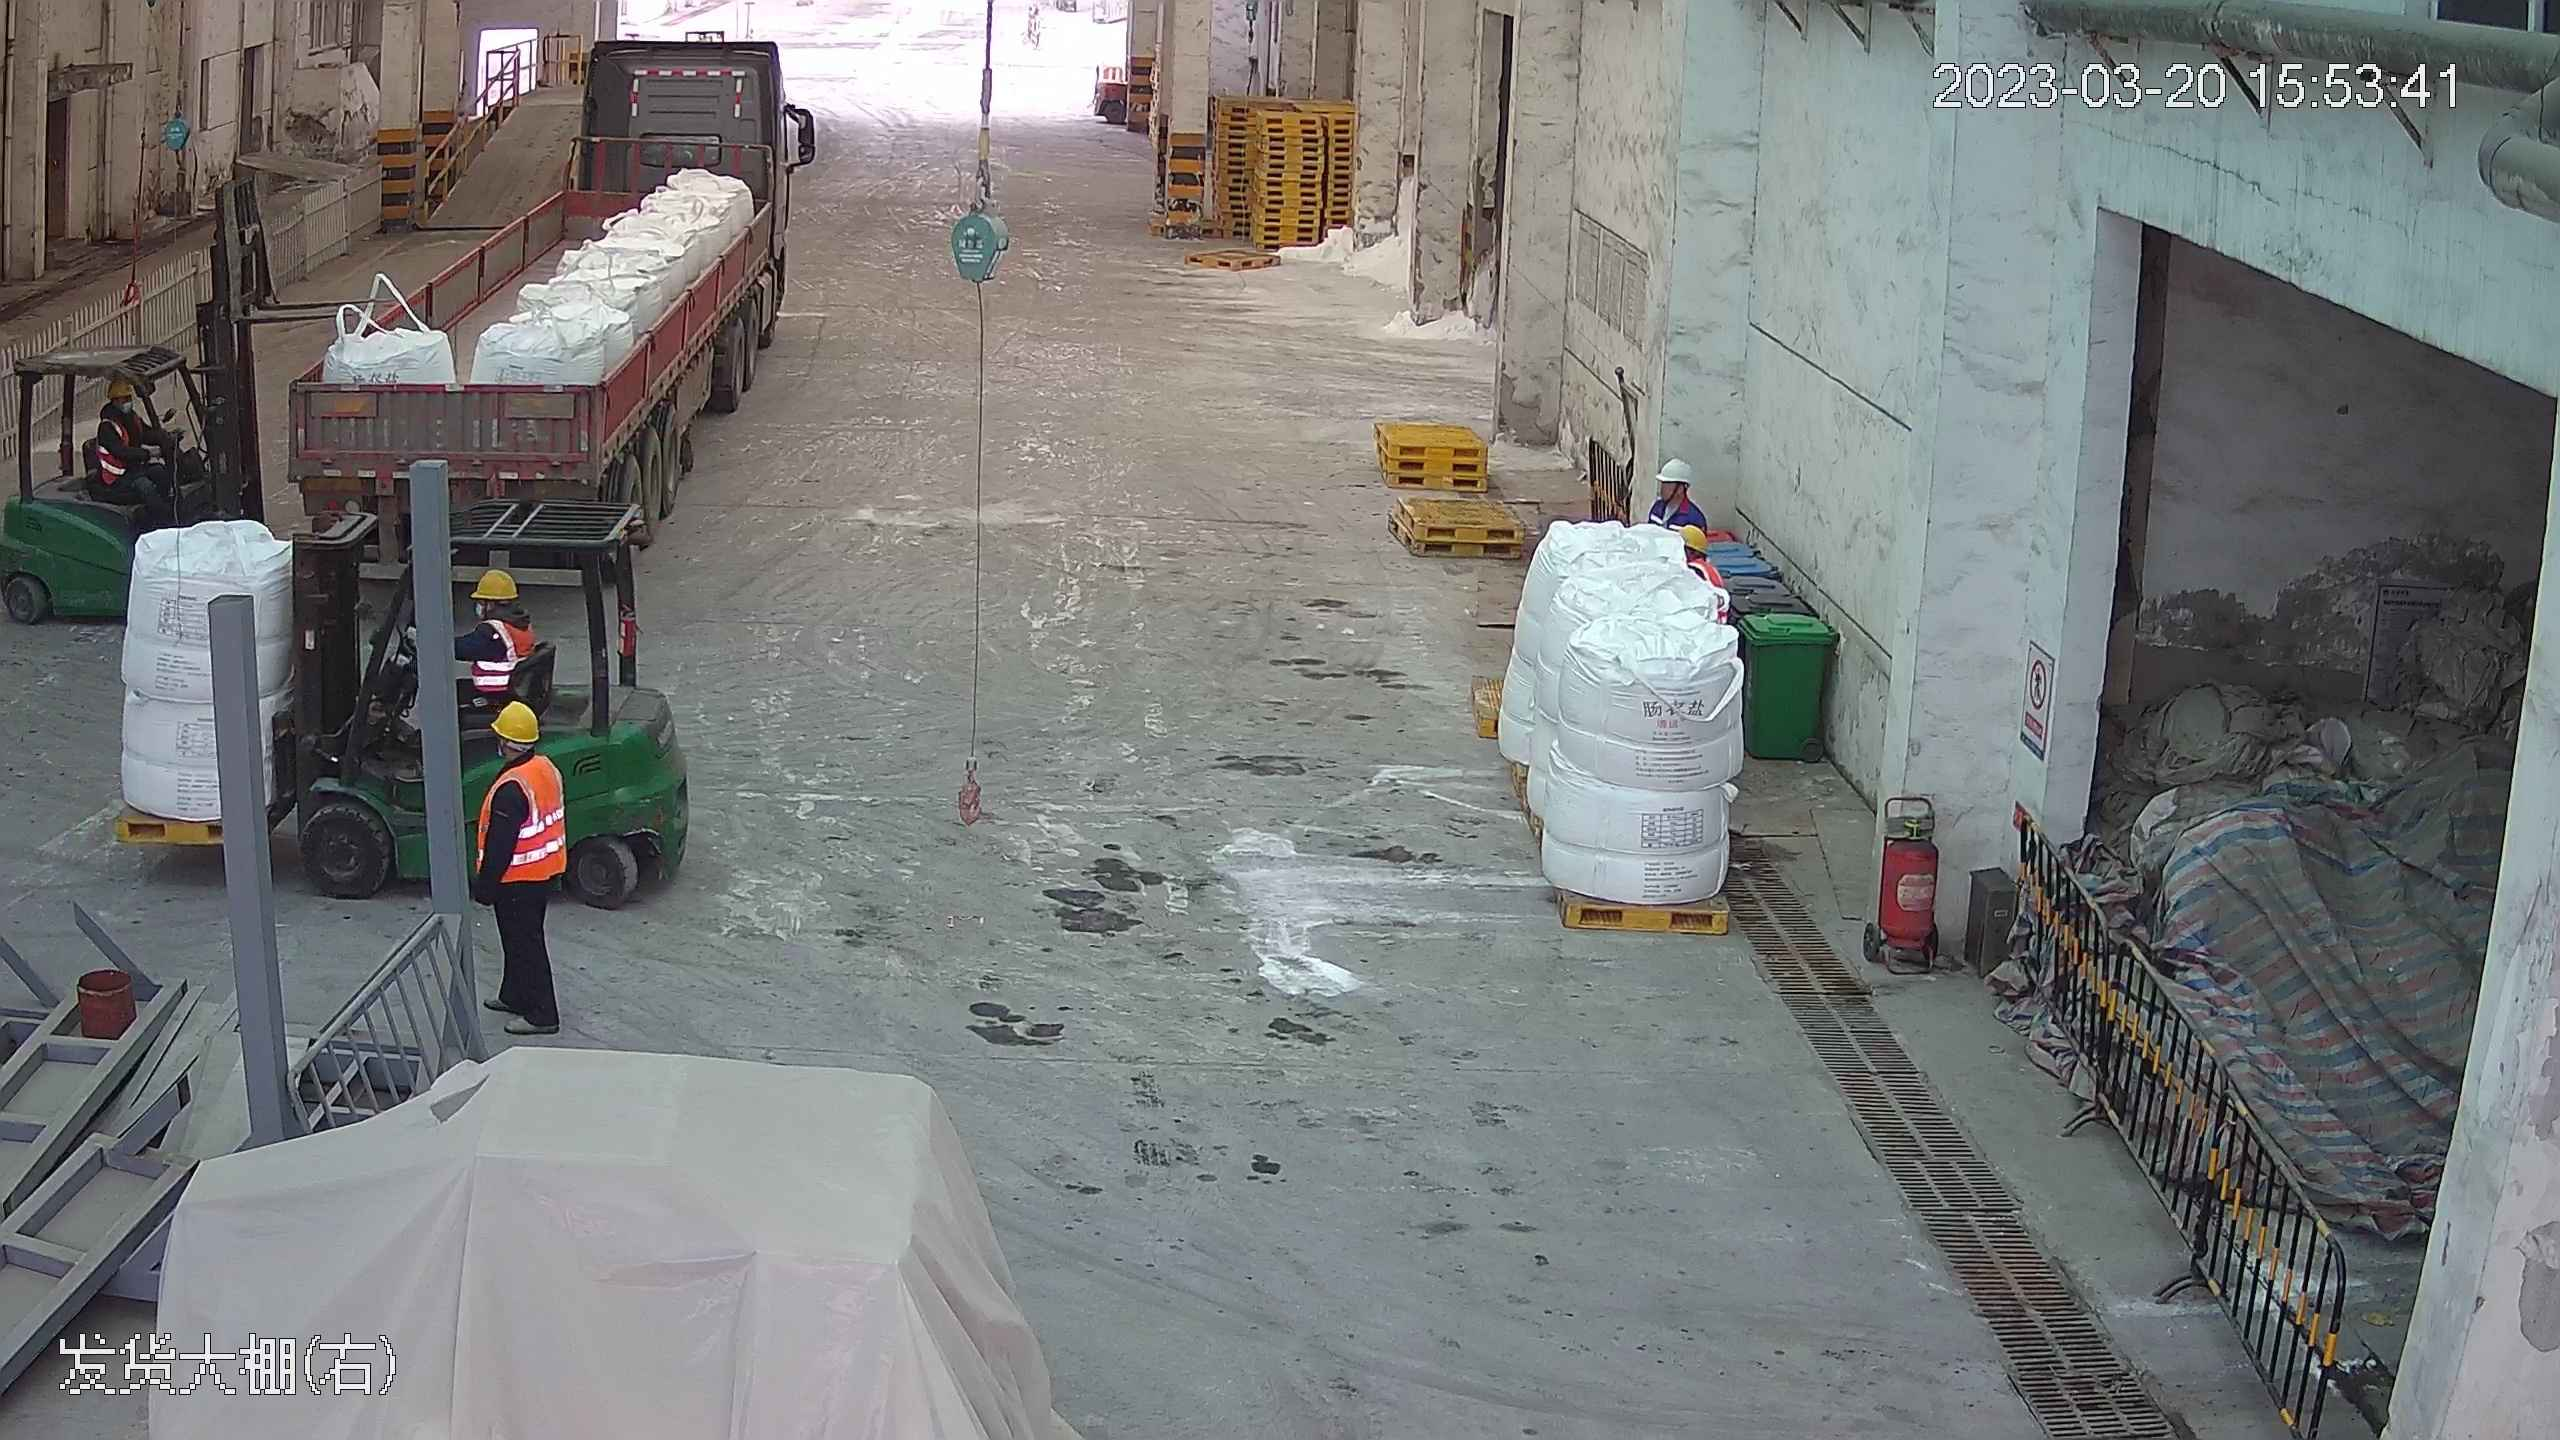head: (481, 695, 566, 812), (459, 567, 537, 656), (97, 377, 141, 435)
helmet: (489, 696, 540, 740), (470, 567, 519, 600), (1652, 460, 1692, 491), (1679, 517, 1712, 545), (104, 376, 133, 401)
people: (472, 692, 571, 1037), (448, 566, 543, 748), (95, 374, 184, 521)
truck: (287, 11, 806, 571)
